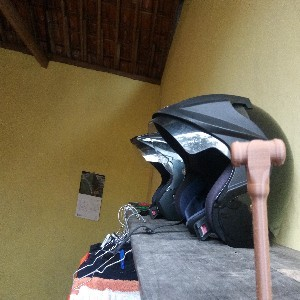palu: (229, 138, 287, 300)
